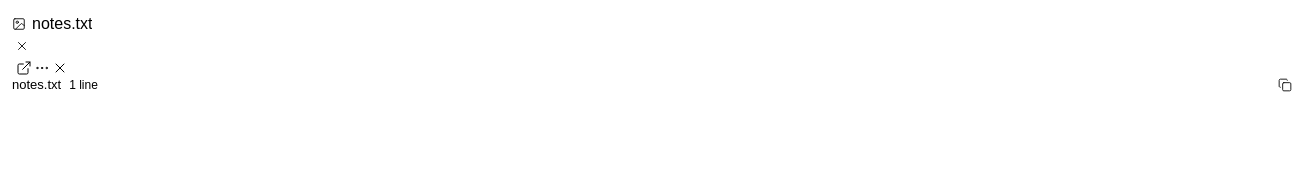
ArtifactViewer tooltips follow the panel’s open state › names More actions after the delay while the panel is open
Hover over the button named "More actions" at [42, 68], box [34,60,50,76]
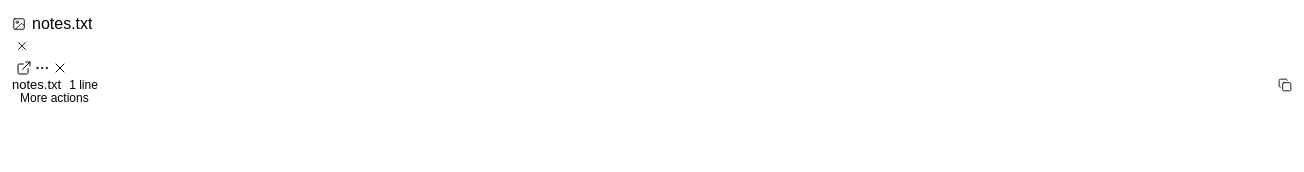
Expected: the tooltip reads "More actions", [20,91,89,105]
